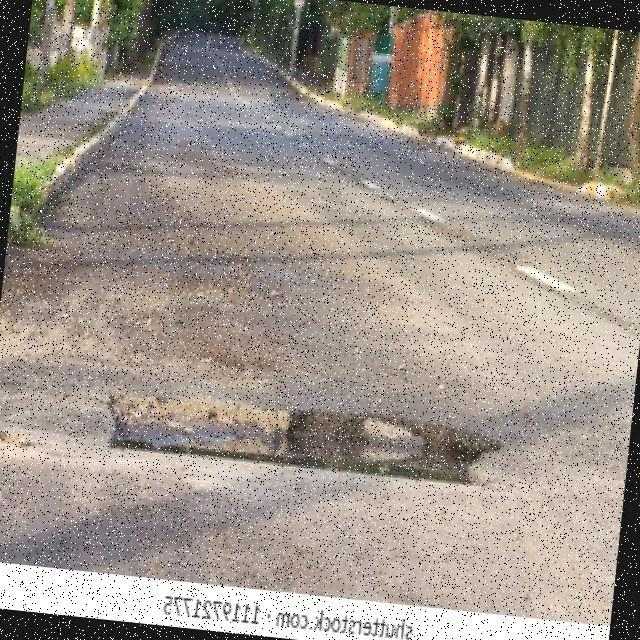Pothole: (108, 394, 501, 485)
